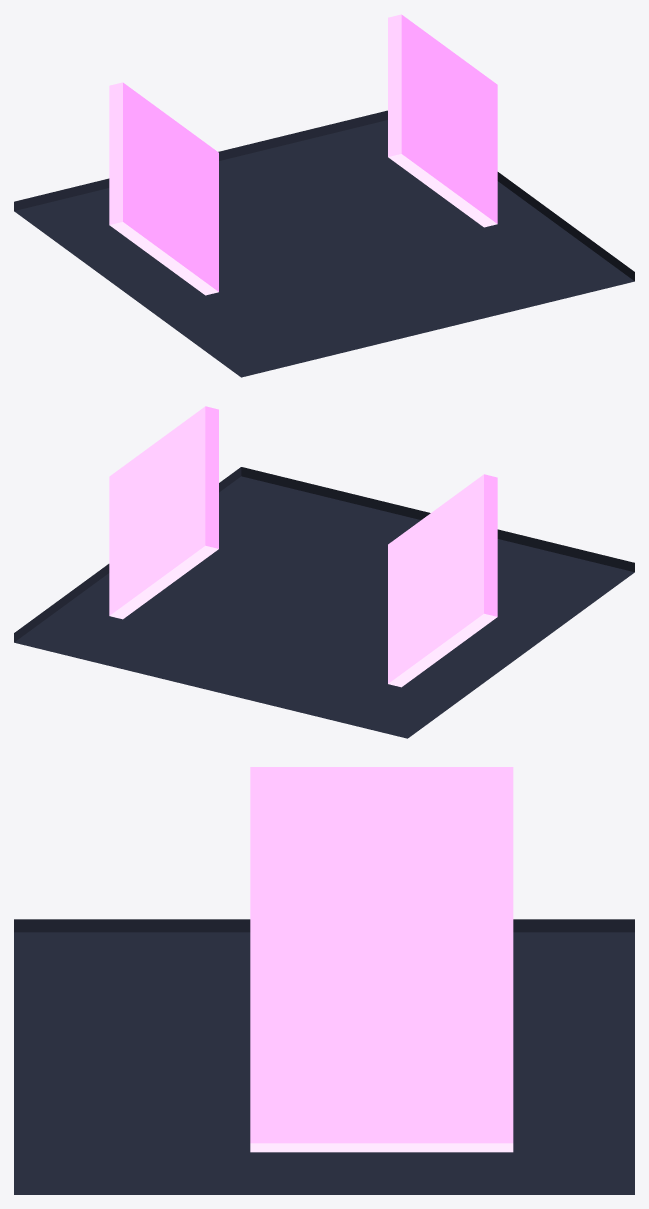
File: home-entry-chamber-v1.gltf
3 views of the same model, one above another, from view 1: azimuth 30°, elevation 25°; view 2: azimuth 150°, elevation 25°; view 3: azimuth 270°, elevation 25° (orthographic). The views are drawn at different scales.
Visible parts, largest first — view 1: threshold-floor, left-fin, right-fin; view 2: threshold-floor, left-fin, right-fin; view 3: threshold-floor, right-fin, left-fin.
Boxes of the visible parts, box(x1,y1,x2,y2) form: threshold-floor: box(14, 110, 634, 377); left-fin: box(109, 82, 218, 295); right-fin: box(388, 14, 497, 227); threshold-floor: box(14, 467, 634, 738); left-fin: box(388, 474, 497, 687); right-fin: box(109, 406, 218, 619); threshold-floor: box(14, 919, 634, 1194); right-fin: box(250, 953, 513, 1152); left-fin: box(250, 767, 513, 952).
Bounding box in the file's own units: 13 × 4.6 × 13.
